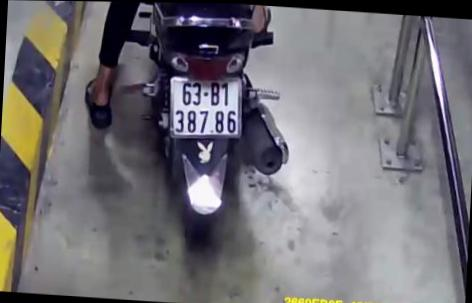LP: (166, 73, 246, 140)
